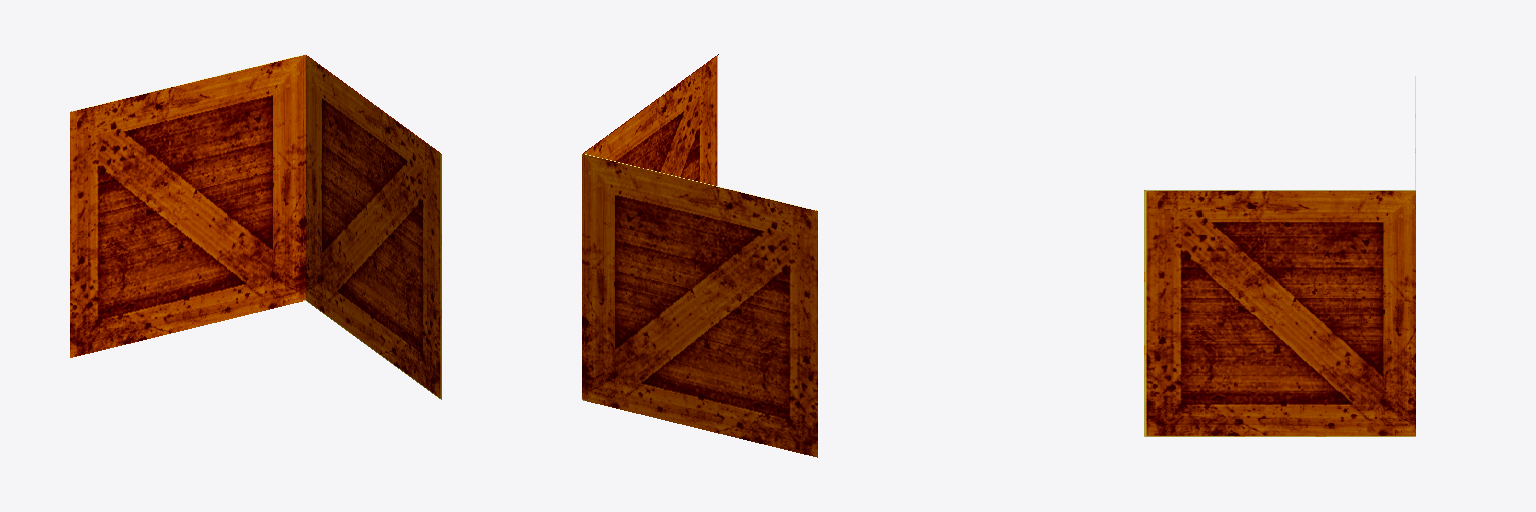
3 renders of one model, left to right at view 1: azimuth 30°, elevation 25°; view 2: azimuth 150°, elevation 25°; view 3: azimuth 270°, elevation 25°, orthographic.
Parts seen in each view (by area): view 1: Cube; view 2: Cube; view 3: Cube.
Part boxes in pixels (left/top/right/bottom): Cube: left=70, top=54, right=441, bottom=399; Cube: left=582, top=54, right=817, bottom=457; Cube: left=1144, top=76, right=1415, bottom=436.
Size of the model in its own units: 6 by 6 by 6.
1 materials, 1 textured.